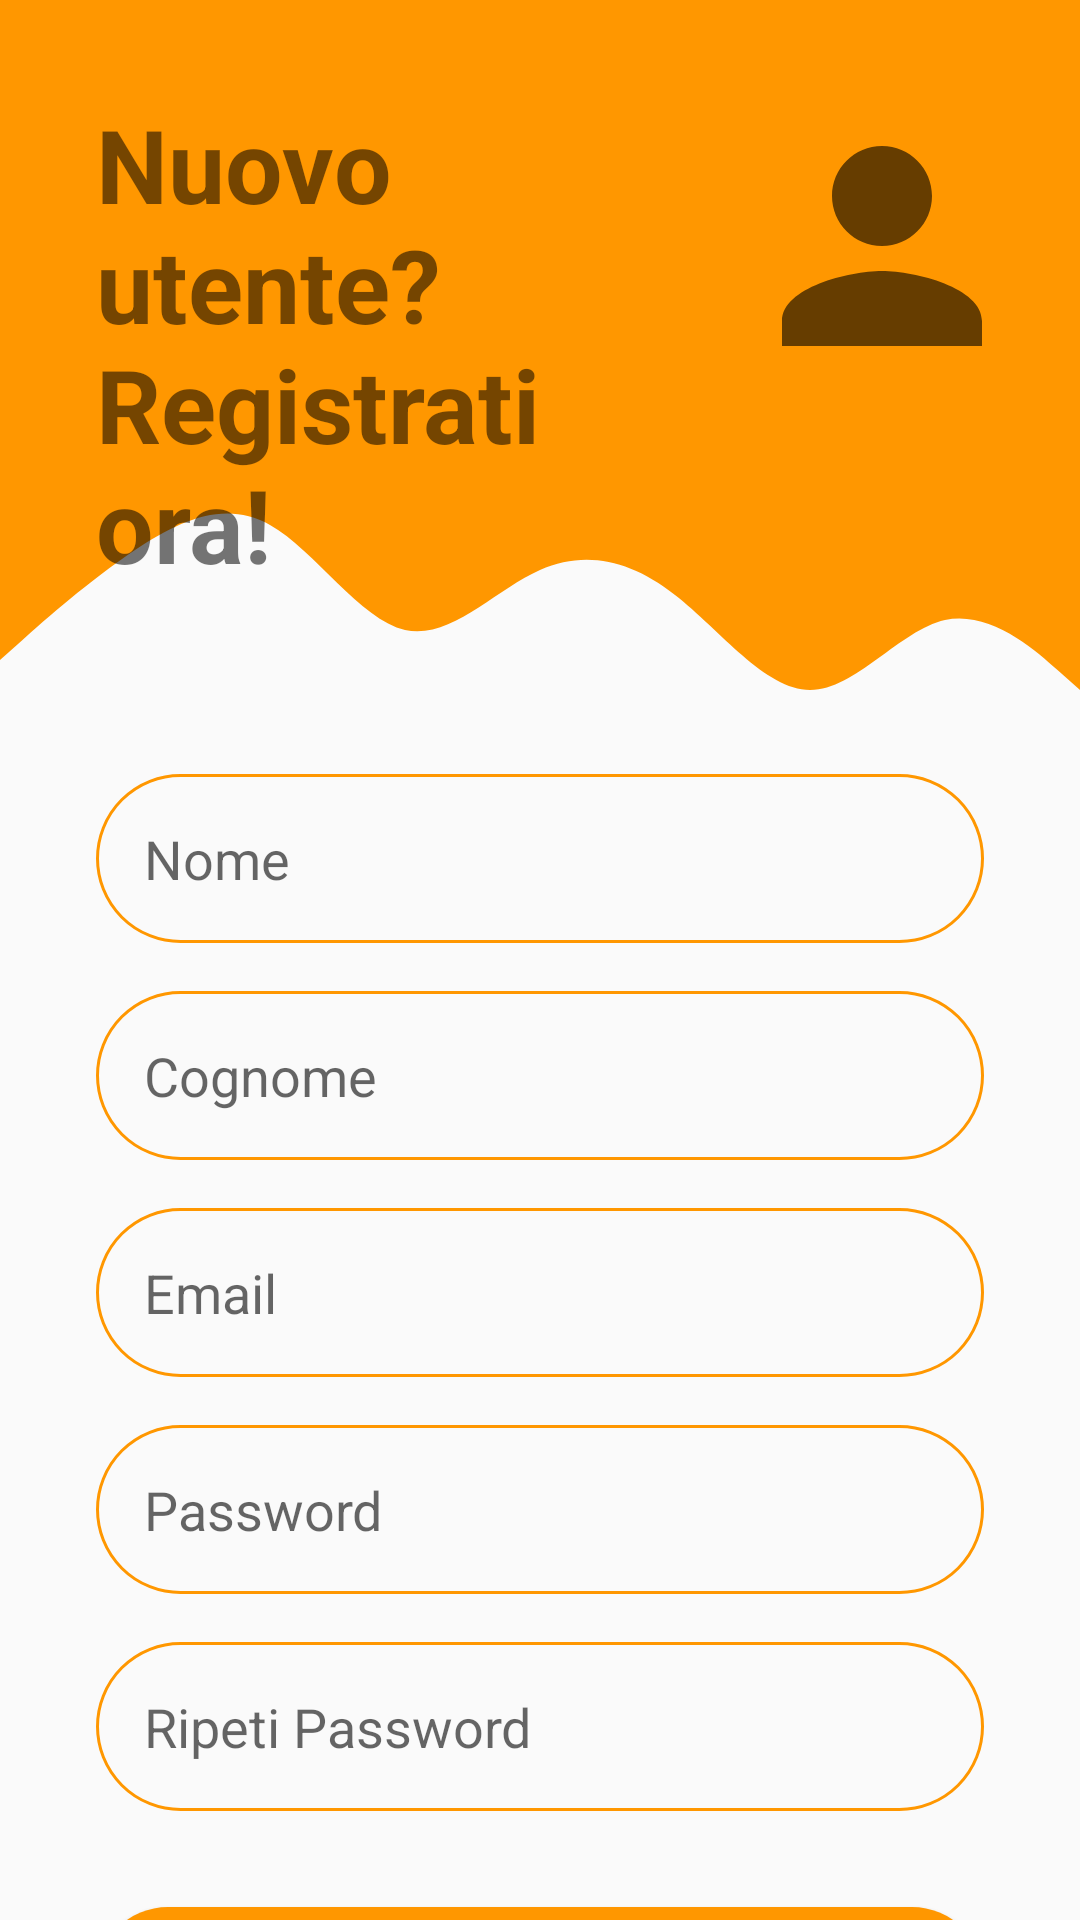

Icon bounding boxes for this 1080 × 1920 phone screenshot, format [left=x1, top=y1, right=x2, bottom=y2]:
person: [left=782, top=146, right=982, bottom=346]
